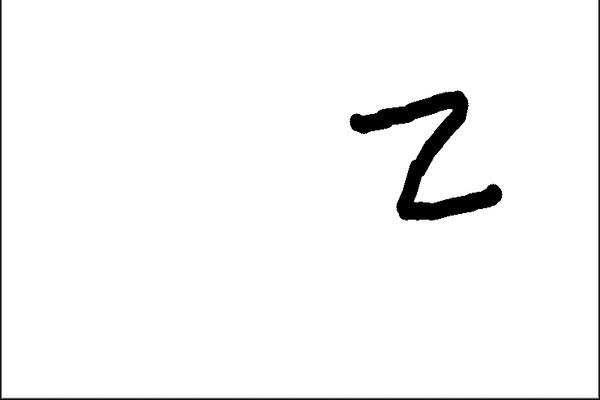Z: (340, 81, 510, 229)
